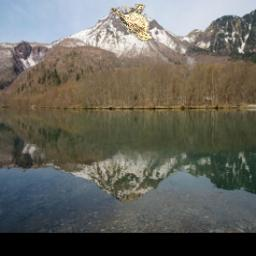Sparrow: (111, 5, 153, 43)
